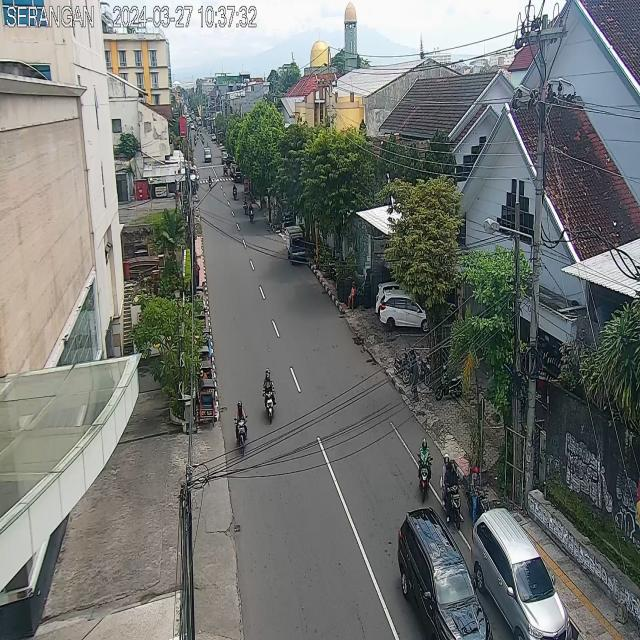car: (470, 508, 572, 640), (398, 505, 490, 640), (203, 148, 212, 163)
motorcycle: (442, 455, 463, 532), (466, 465, 490, 521), (418, 438, 432, 502), (263, 367, 278, 424), (234, 399, 248, 457), (248, 202, 254, 224), (232, 182, 238, 200), (243, 197, 248, 216), (208, 174, 212, 190)
truck: (285, 228, 306, 264)
